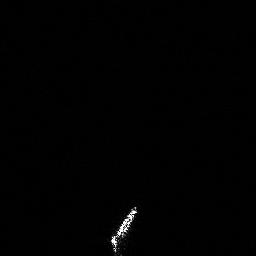ship: (106, 202, 139, 256)
